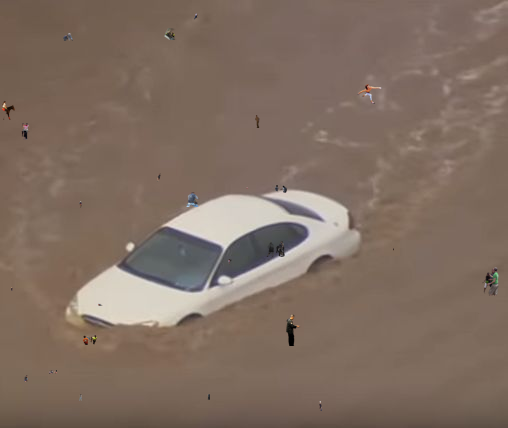Human: (356, 84, 382, 104), (285, 314, 301, 346), (482, 267, 499, 296), (1, 99, 22, 120), (258, 241, 285, 257), (186, 192, 202, 207), (79, 335, 97, 345), (164, 28, 177, 40), (21, 123, 30, 140), (275, 185, 287, 194), (63, 33, 73, 41), (255, 115, 260, 128), (157, 173, 161, 182), (24, 375, 29, 382), (49, 370, 57, 374), (319, 401, 322, 411), (194, 13, 198, 20), (228, 259, 232, 265), (79, 394, 82, 401), (79, 201, 82, 208), (207, 394, 210, 400), (98, 303, 103, 306), (11, 287, 13, 293), (246, 186, 248, 189), (478, 313, 482, 314), (393, 248, 394, 251)
